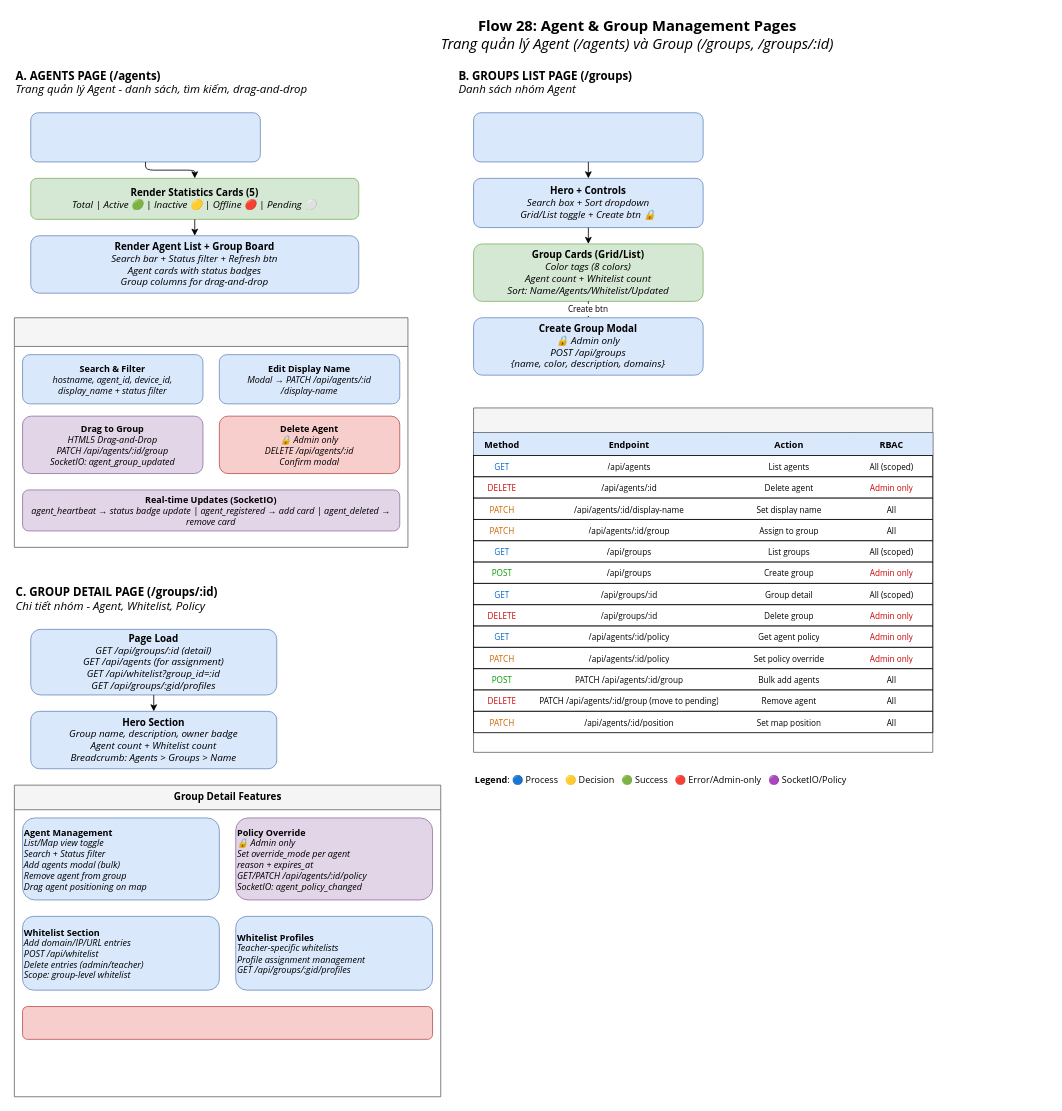
The diagram is 1062 pixels wide and 1111 high, and some of its shapes have lost their labels. Here are the shapes that lost their labels. From the top down, the box of each, then its label:
(30, 112, 260, 162): Page Load GET /api/agents (pagination) GET /api/groups (for board)
(473, 112, 703, 162): Page Load GET /api/groups (with counts) GET /api/agents (for stats)
(14, 317, 408, 547): Agent Actions Các thao tác trên Agent
(473, 407, 933, 752): 📡 API Endpoints Summary
(22, 1006, 433, 1039): Delete Group 🔒 Admin only - DELETE /api/groups/:id - Agents → pending status
